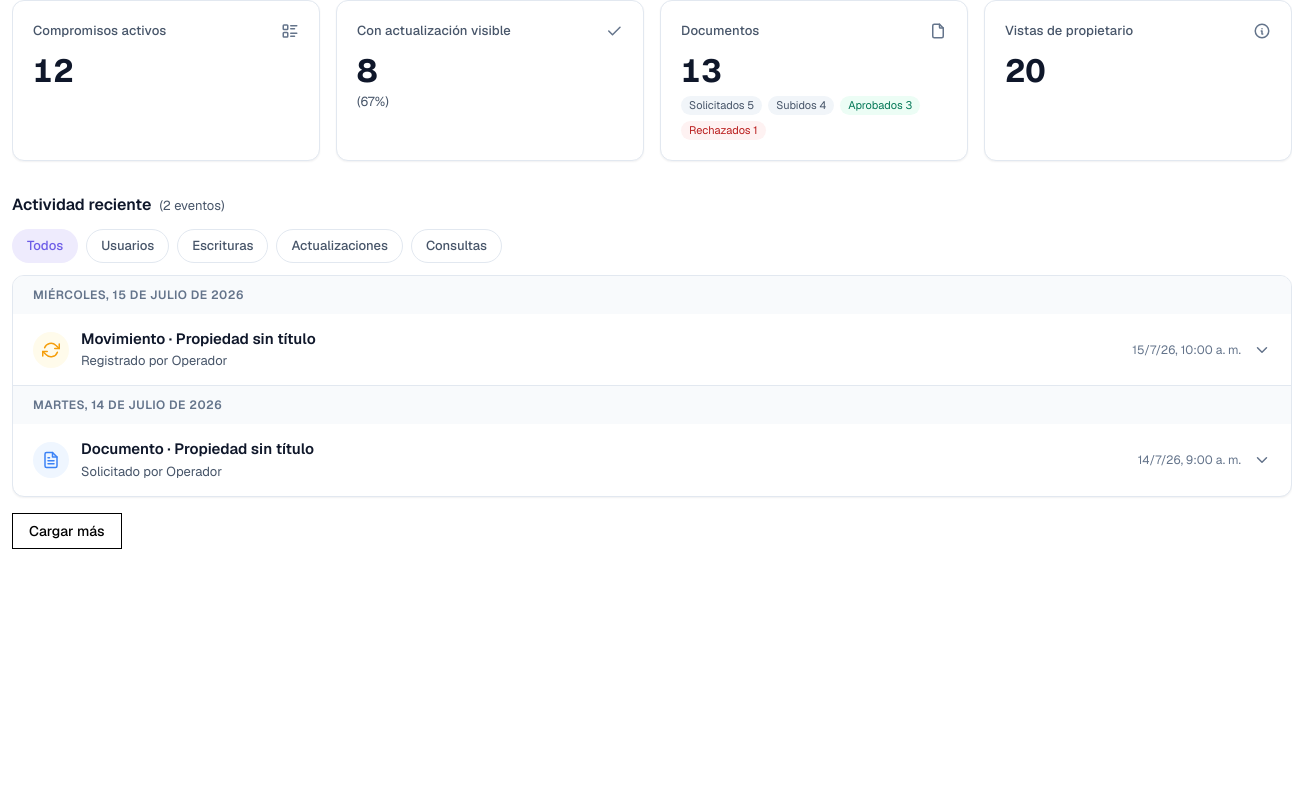
Test: TenantDetailViewPage — activity pagination ("Cargar más") › appends the next page and does NOT overwrite the stat-card counts
The width and height of the screenshot is (1304, 800).
Check: the list item with test id "tenant-activity-item-movement-1" is shown, box [13,314,1291,386]
Check: the text with test id "stat-active-engagements" reads "12", box [33,50,74,90]
Click the button "Cargar más".
click(67, 531)  # box [12,513,122,549]
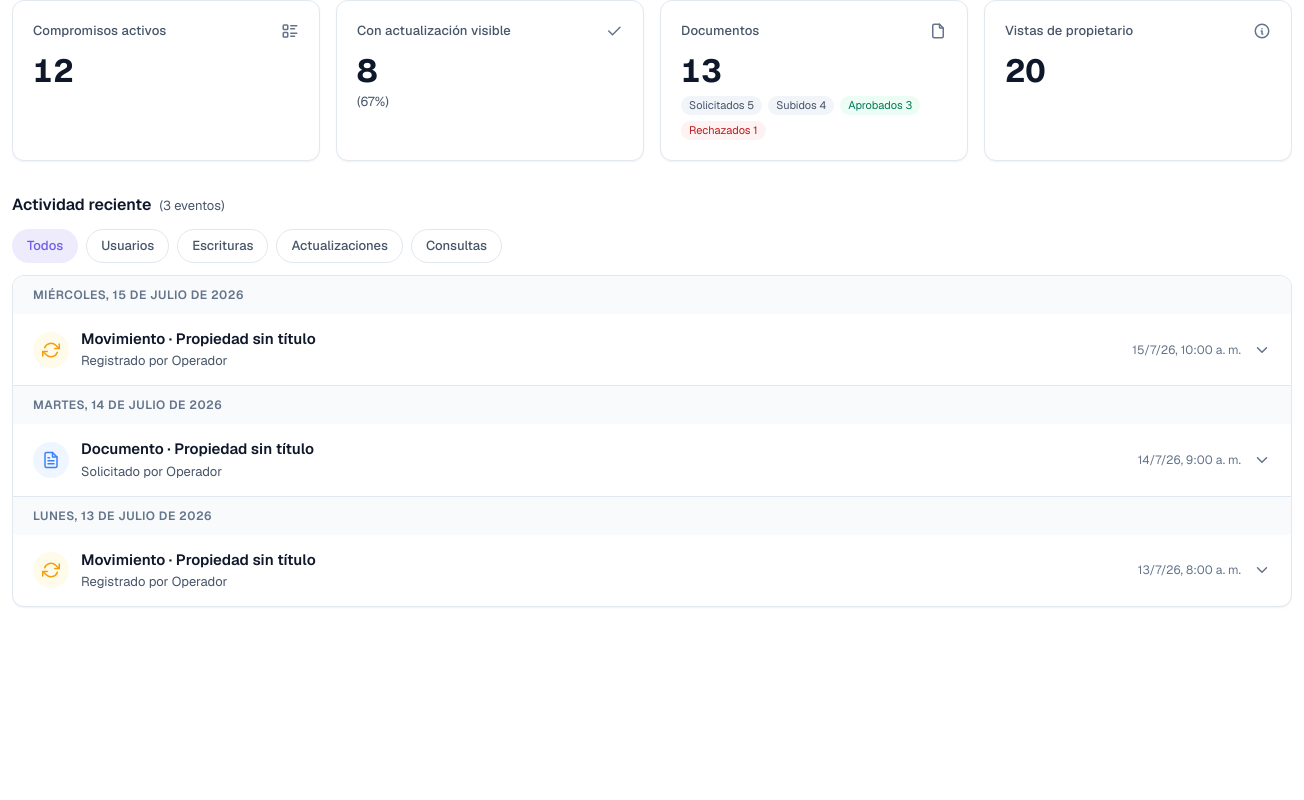
Check: the list item with test id "tenant-activity-item-movement-1" is shown, box [13,314,1291,386]
Check: the list item with test id "tenant-activity-item-movement-3" is shown, box [13,535,1291,606]
